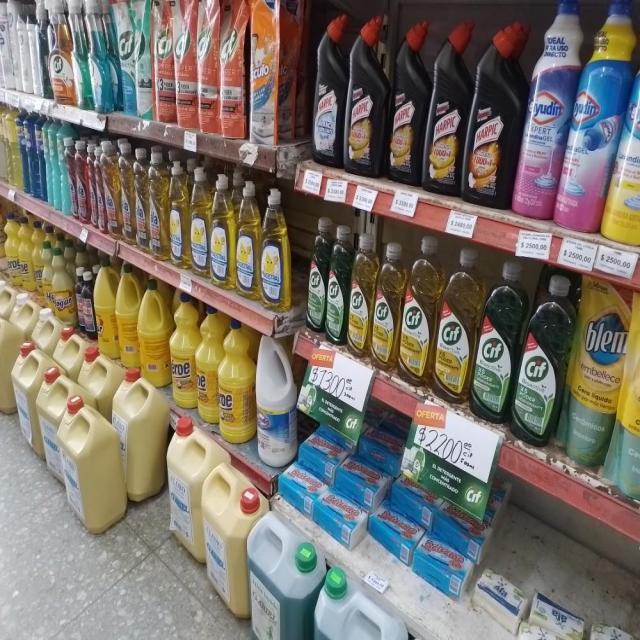ala_conc_amarillo: (149, 148, 168, 260), (104, 140, 120, 240), (134, 145, 148, 253), (120, 142, 134, 246)
ala_conc_rojo: (88, 142, 100, 230), (76, 139, 88, 225)
cif_conc_bot_amarilla: (435, 244, 473, 402), (401, 234, 434, 386), (372, 240, 400, 371), (349, 232, 372, 359)
cif_conc_botella_verde: (514, 271, 564, 445), (473, 259, 515, 423), (327, 222, 348, 346), (306, 216, 326, 334)
magistral_con_amarillo: (261, 186, 291, 312), (210, 172, 235, 291), (236, 179, 259, 301), (190, 166, 210, 279), (169, 159, 189, 269)
